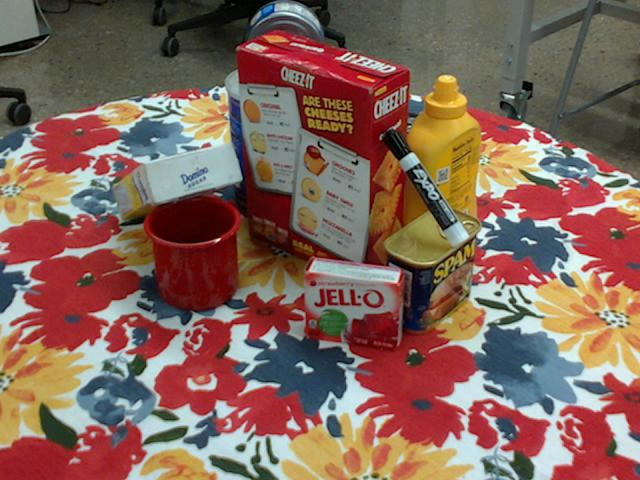cracker_box: (235, 30, 409, 286)
gelatin_box: (304, 256, 405, 350)
large_marker: (383, 127, 471, 246)
master_chef_can: (225, 63, 320, 215)
mug: (143, 195, 242, 310)
mustard_bottle: (401, 75, 482, 268)
potted_meat_can: (384, 206, 484, 335)
sugar_box: (111, 144, 242, 220)
tomato_soup_can: (372, 112, 436, 220)
tuna_fish_can: (244, 0, 323, 86)
